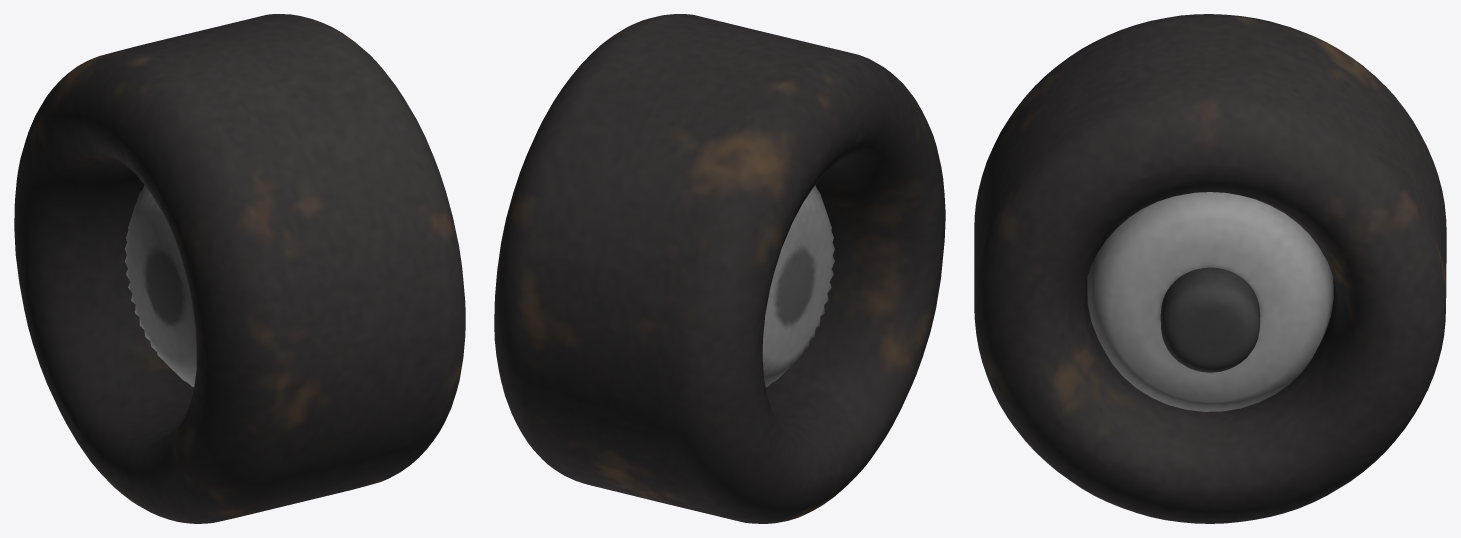
3 renders of one model, left to right at view 1: azimuth 30°, elevation 25°; view 2: azimuth 150°, elevation 25°; view 3: azimuth 270°, elevation 25°, orthographic. The views are drawn at different scales.
Parts seen in each view (by area): view 1: wheel_RL; view 2: wheel_RL; view 3: wheel_RL.
Boxes of the visible parts, left/top/right/bottom form: wheel_RL: left=14, top=14, right=465, bottom=523; wheel_RL: left=494, top=14, right=945, bottom=523; wheel_RL: left=974, top=14, right=1446, bottom=523.
Bounding box in the file's own units: 0.2275 × 0.3593 × 0.3591.
1 material, 1 textured.
